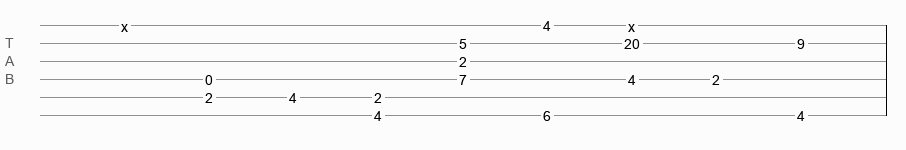0: (205, 72, 213, 82)
2: (205, 90, 213, 100), (374, 90, 382, 100), (459, 54, 467, 64), (712, 72, 720, 82)
20: (624, 36, 640, 46)
4: (289, 90, 297, 100), (374, 108, 382, 118), (543, 18, 551, 28), (628, 72, 636, 82), (797, 108, 805, 118)
5: (459, 36, 467, 46)
6: (543, 108, 551, 118)
7: (459, 72, 467, 82)
9: (797, 36, 805, 46)
x: (121, 19, 128, 27), (628, 19, 635, 27)
